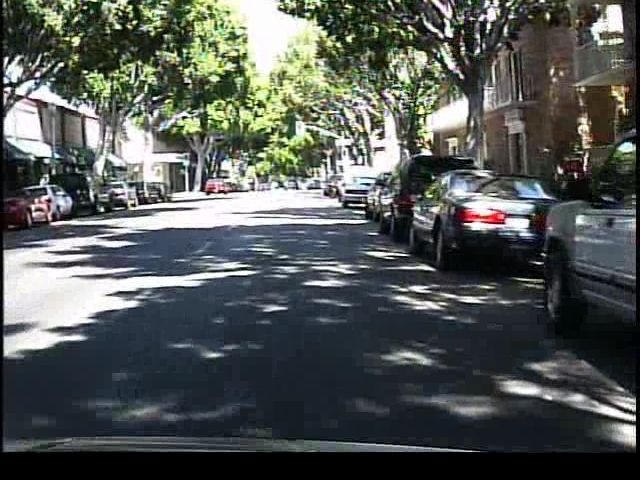car: (542, 121, 640, 343), (414, 167, 540, 270), (374, 155, 432, 237)
